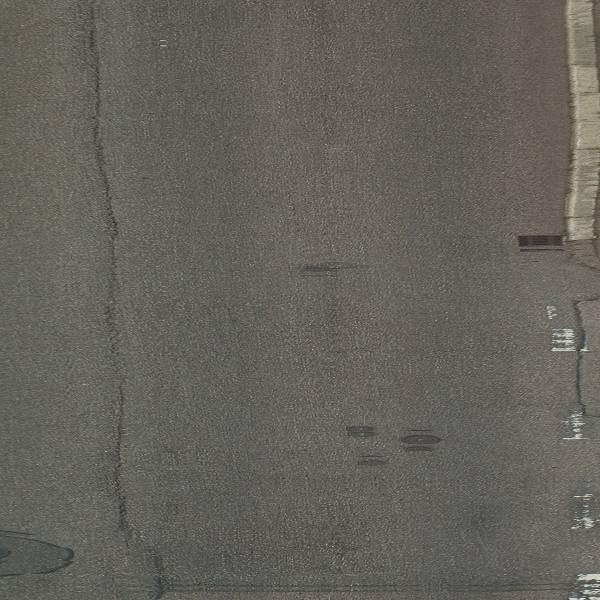road_damage: (78, 29, 191, 600), (240, 575, 600, 599), (342, 417, 446, 471), (1, 524, 82, 581), (569, 292, 600, 422)
